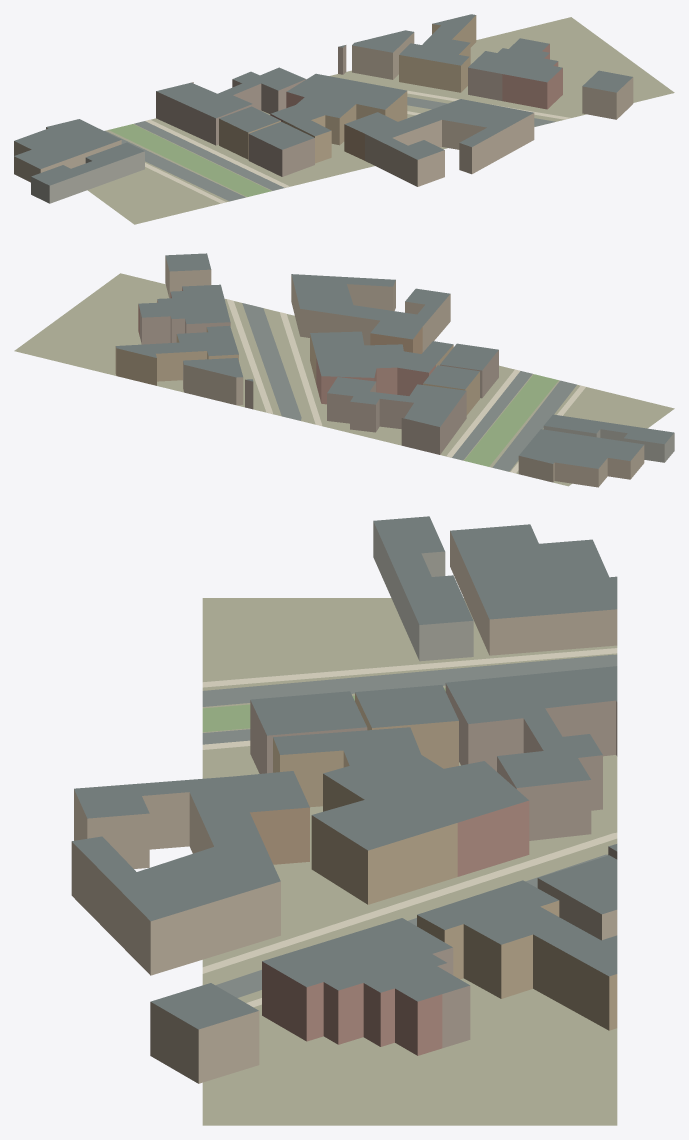
Rendered from sector-1_-8.glb.
The picture shows the model from 3 angles, top to bottom: view 1: azimuth 30°, elevation 25°; view 2: azimuth 150°, elevation 25°; view 3: azimuth 270°, elevation 25°; orthographic projection. The views are drawn at different scales.
Parts seen in each view (by area): view 1: 1:-8-facade, 1:-8-roof, 1:-8-ground, 1:-8-road, 1:-8-park, 1:-8-paving; view 2: 1:-8-roof, 1:-8-facade, 1:-8-ground, 1:-8-road, 1:-8-park, 1:-8-paving; view 3: 1:-8-roof, 1:-8-facade, 1:-8-ground, 1:-8-road, 1:-8-paving, 1:-8-park.
Boxes of the visible parts, x1=… form: 1:-8-facade: x1=14, y1=15, x2=633, y2=203; 1:-8-roof: x1=14, y1=14, x2=632, y2=185; 1:-8-ground: x1=87, y1=17, x2=674, y2=224; 1:-8-road: x1=104, y1=97, x2=555, y2=201; 1:-8-park: x1=109, y1=124, x2=271, y2=196; 1:-8-paving: x1=145, y1=90, x2=570, y2=203; 1:-8-roof: x1=116, y1=253, x2=673, y2=468; 1:-8-facade: x1=115, y1=256, x2=674, y2=487; 1:-8-ground: x1=14, y1=273, x2=674, y2=486; 1:-8-road: x1=242, y1=303, x2=576, y2=471; 1:-8-park: x1=464, y1=374, x2=558, y2=466; 1:-8-paving: x1=226, y1=299, x2=585, y2=473; 1:-8-roof: x1=72, y1=516, x2=617, y2=1029; 1:-8-facade: x1=71, y1=521, x2=617, y2=1083; 1:-8-ground: x1=202, y1=598, x2=617, y2=1125; 1:-8-road: x1=202, y1=654, x2=617, y2=997; 1:-8-paving: x1=202, y1=648, x2=617, y2=1007; 1:-8-park: x1=202, y1=688, x2=445, y2=732.
Bounding box in the file's own units: 217 × 9.6 × 87.46.
